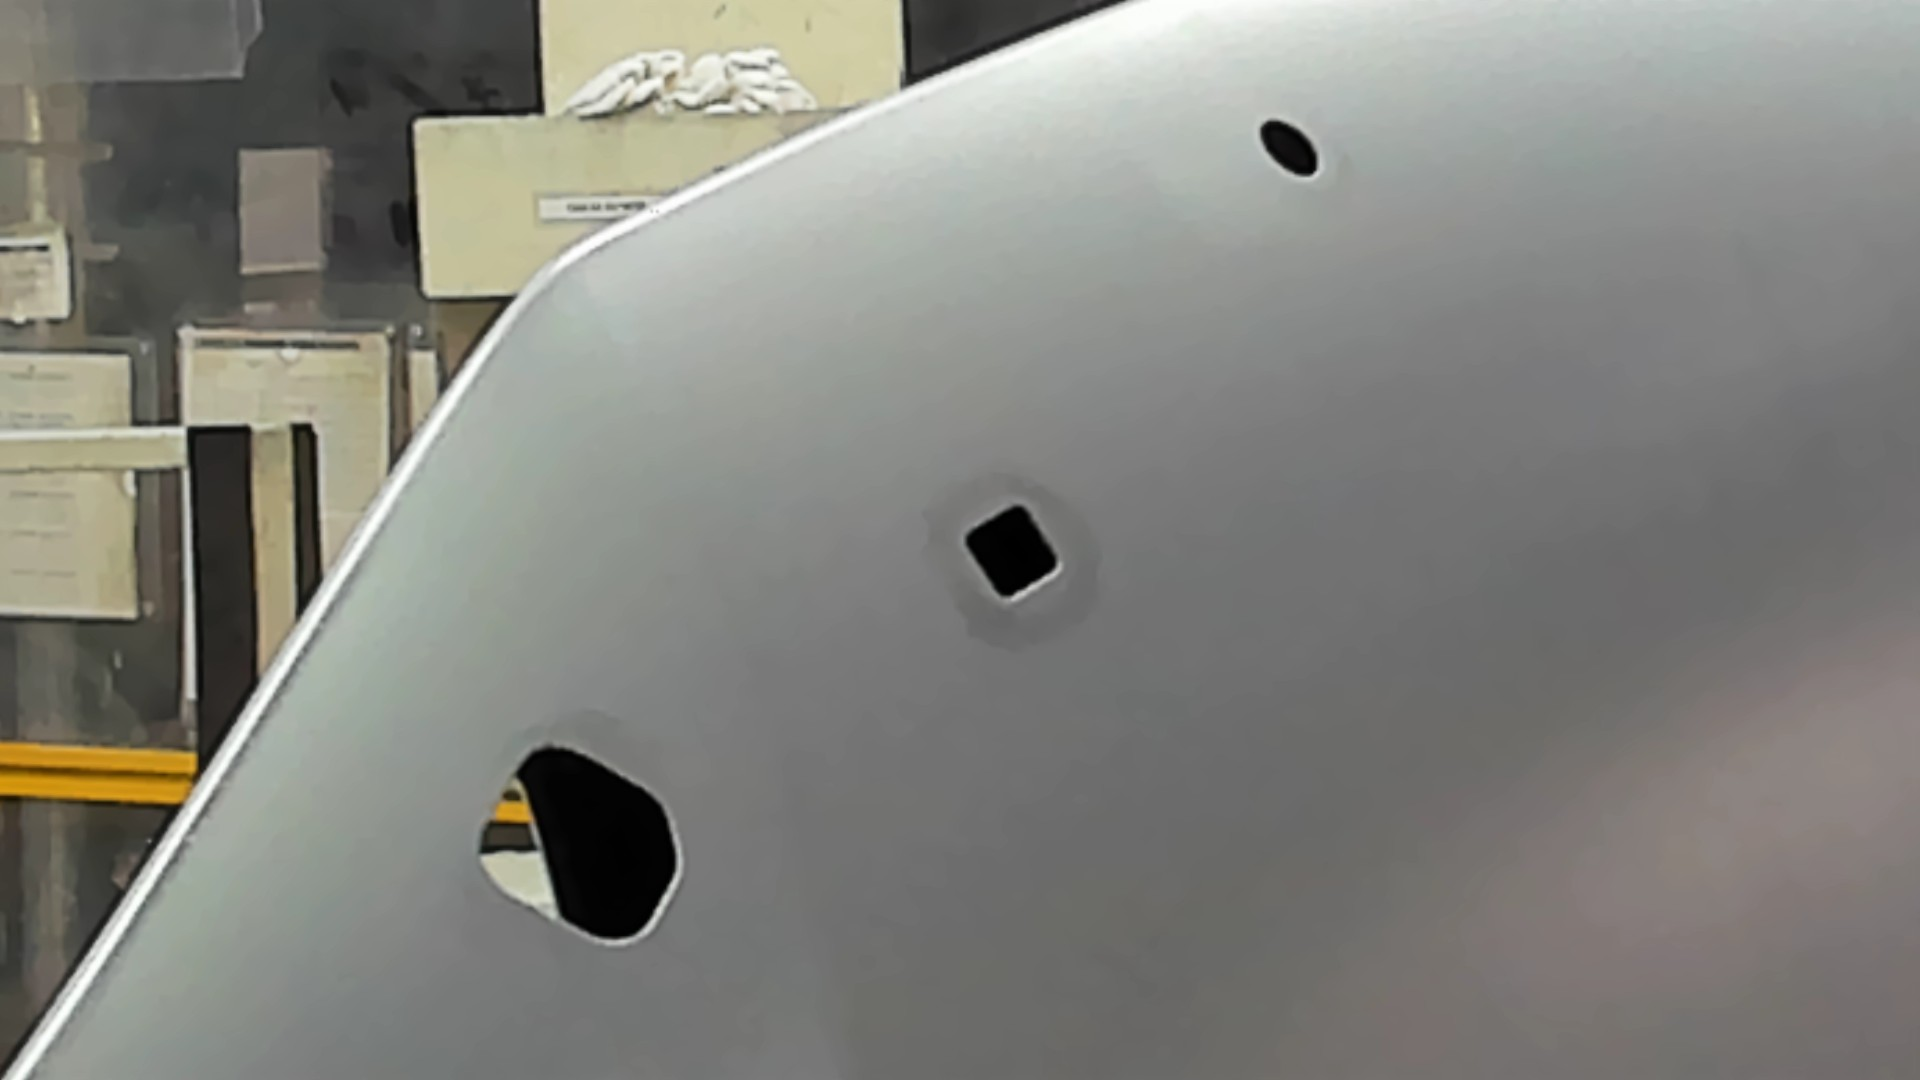capo: (1077, 191, 1917, 1080)
chico: (1255, 109, 1327, 187)
grande: (463, 736, 695, 956)
mediano: (955, 497, 1069, 613)
